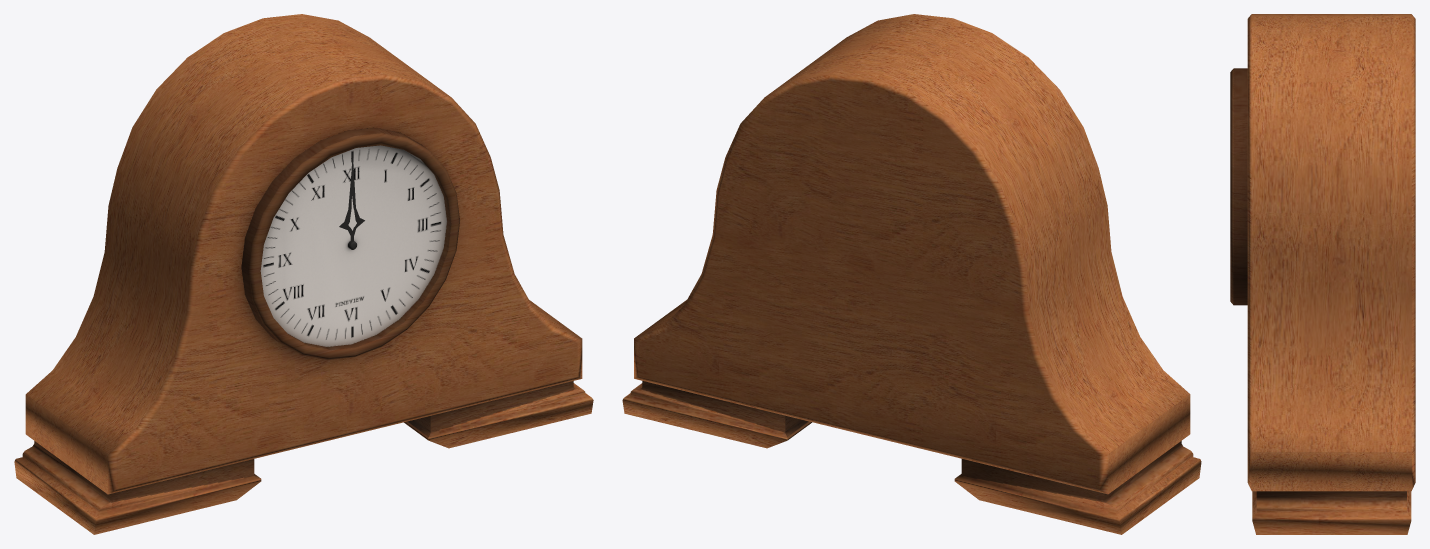
The model's file is tischuhr_02.fbx.
The picture shows the model from 3 angles, left to right: view 1: azimuth 30°, elevation 25°; view 2: azimuth 150°, elevation 25°; view 3: azimuth 270°, elevation 25°; orthographic projection. The views are drawn at different scales.
Visible parts, largest first — view 1: tischuhr_02; view 2: tischuhr_02; view 3: tischuhr_02.
Part boxes in pixels (bbox=[...]): tischuhr_02: bbox=[14, 14, 593, 534]; tischuhr_02: bbox=[622, 14, 1201, 534]; tischuhr_02: bbox=[1230, 14, 1415, 534].
Size of the model in its own units: 75.97 by 58.03 by 25.14.
